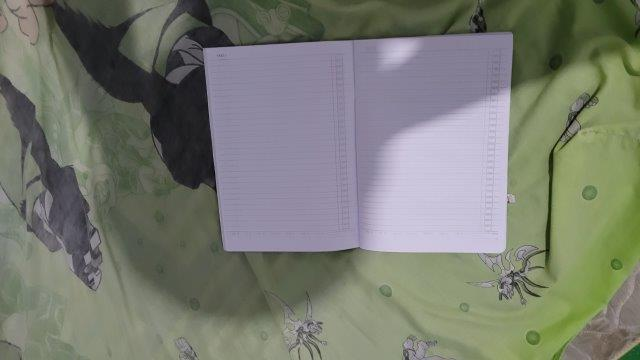kertas: (203, 31, 515, 253)
